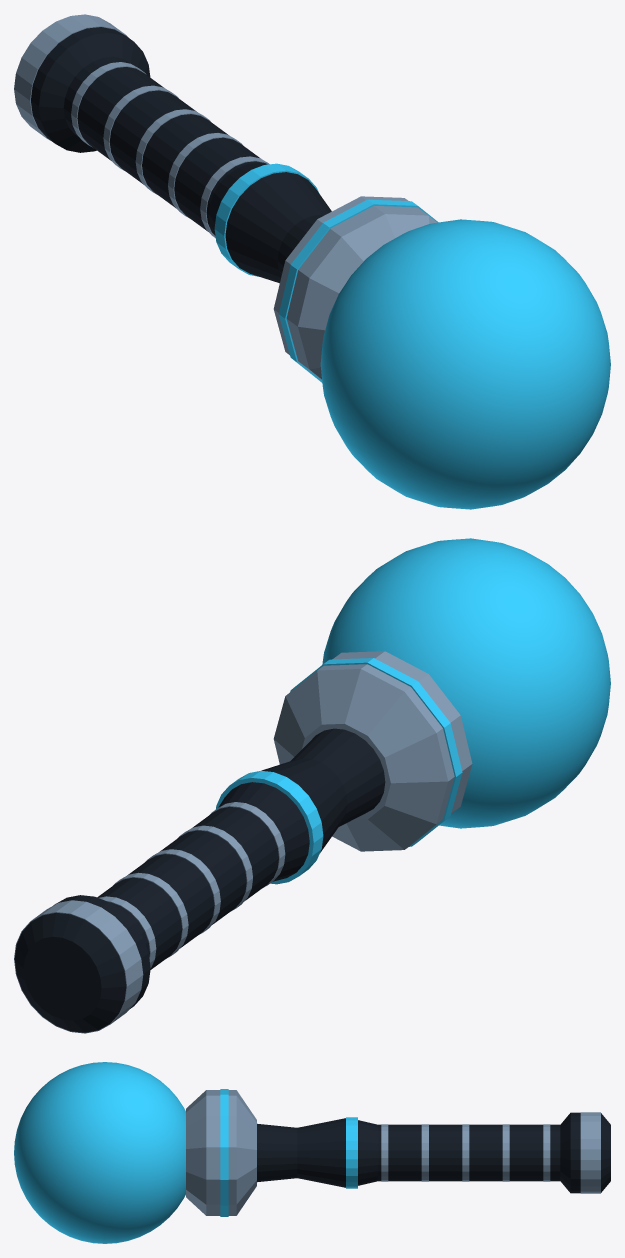
The model's file is SM_StellarFocus.obj.
The picture shows the model from 3 angles, top to bottom: view 1: azimuth 30°, elevation 25°; view 2: azimuth 150°, elevation 25°; view 3: azimuth 270°, elevation 25°; orthographic projection. The views are drawn at different scales.
Visible parts, largest first — view 1: SM_StellarFocus; view 2: SM_StellarFocus; view 3: SM_StellarFocus.
Boxes of the visible parts, x1,y1,x2,y2 form: SM_StellarFocus: (14,14,610,509); SM_StellarFocus: (14,538,610,1033); SM_StellarFocus: (14,1062,610,1243).
Bounding box in the file's own units: 18 × 18 × 59.
